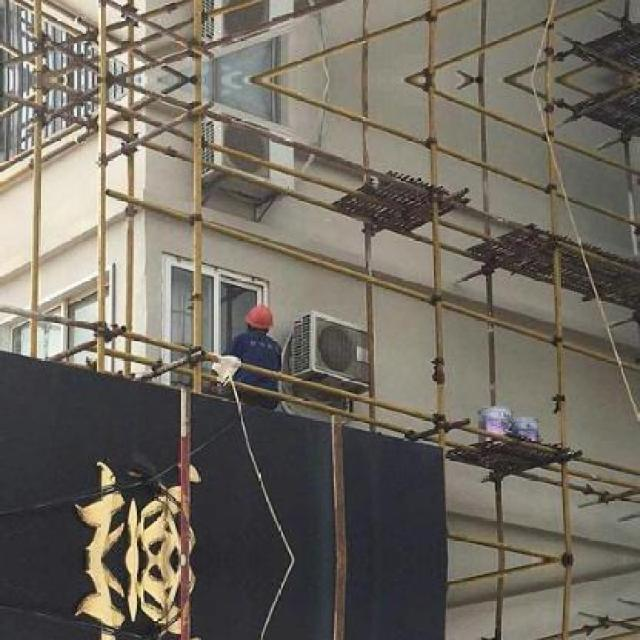helmet: (244, 304, 276, 336)
